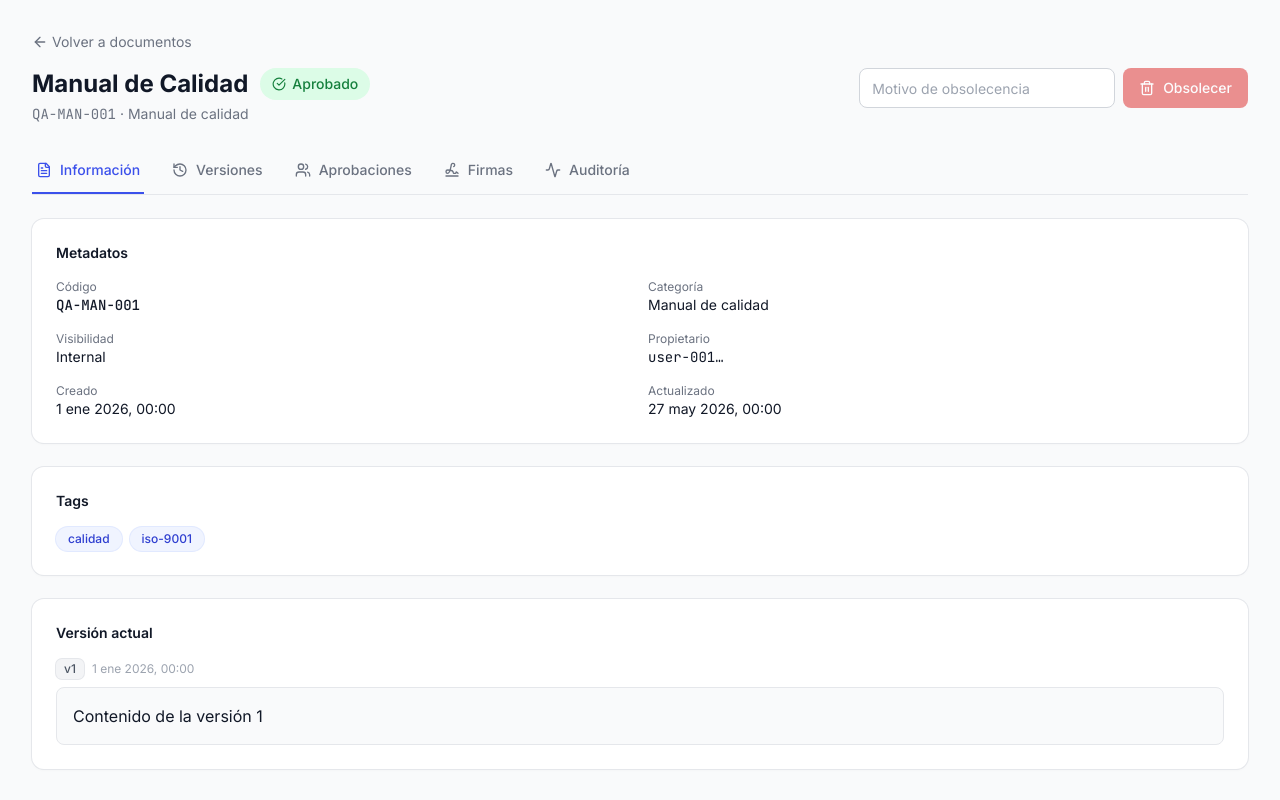
Test: DocumentDetailPage › tab de aprobaciones muestra historial
Expected: the heading "Manual de Calidad" is shown, [32,68,248,100]
Click the tab "Aprobaciones" at point(353, 171), box [291,148,416,194]
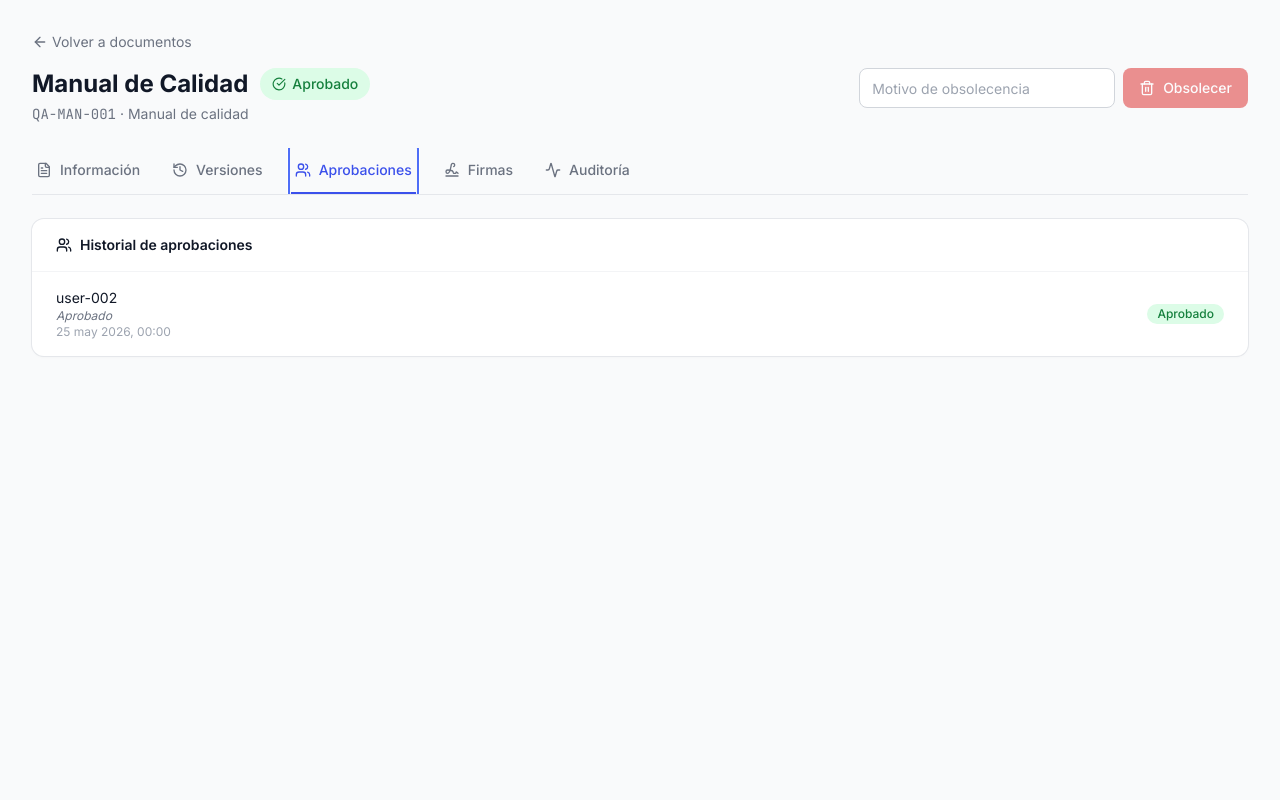
Now the text "user-002" is shown, box [56,289,117,306]
